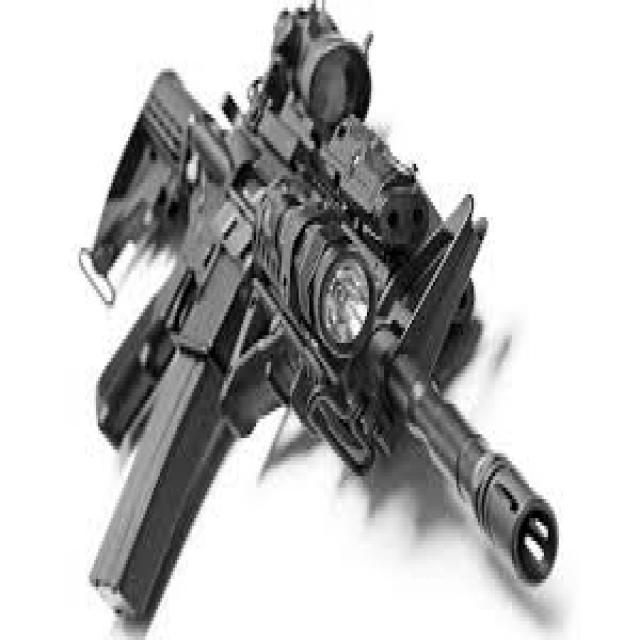rifle: (59, 0, 559, 640)
